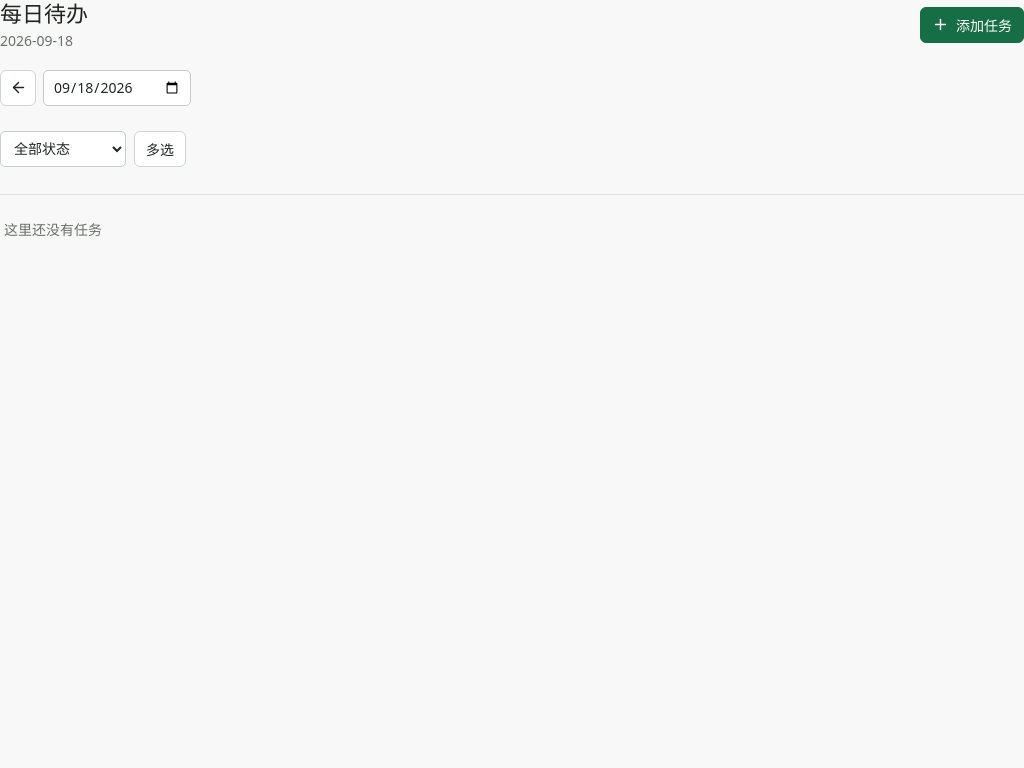
Scenario: clicking 添加任务 opens the task editor
This screenshot has width=1024, height=768.
Click the button "添加任务": (972, 25) [920,7,1023,43]
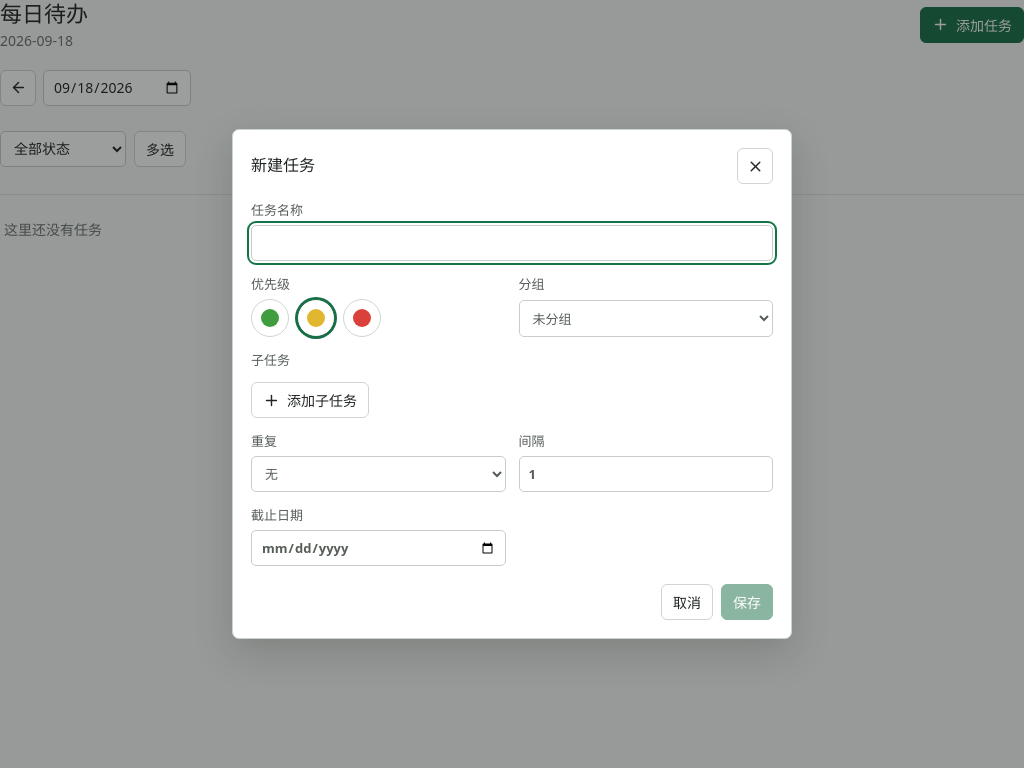
Check: the heading "新建任务" is shown, box [251,155,315,177]
